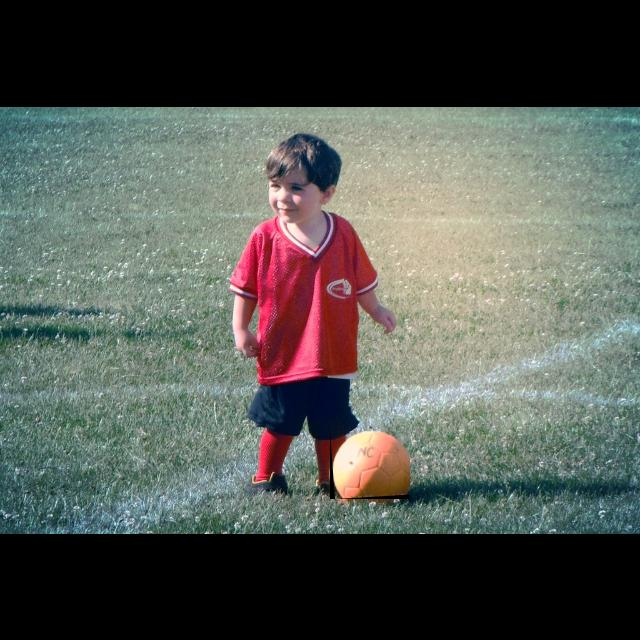Football: (330, 431, 410, 499)
